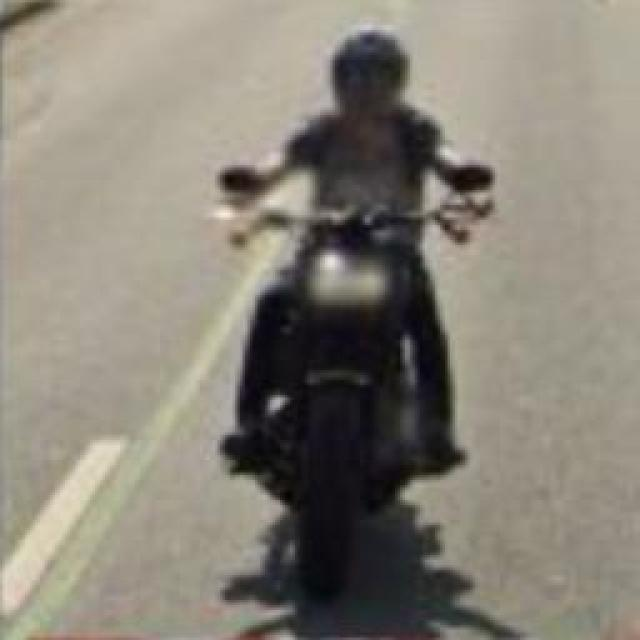motorbike: (203, 20, 495, 613)
